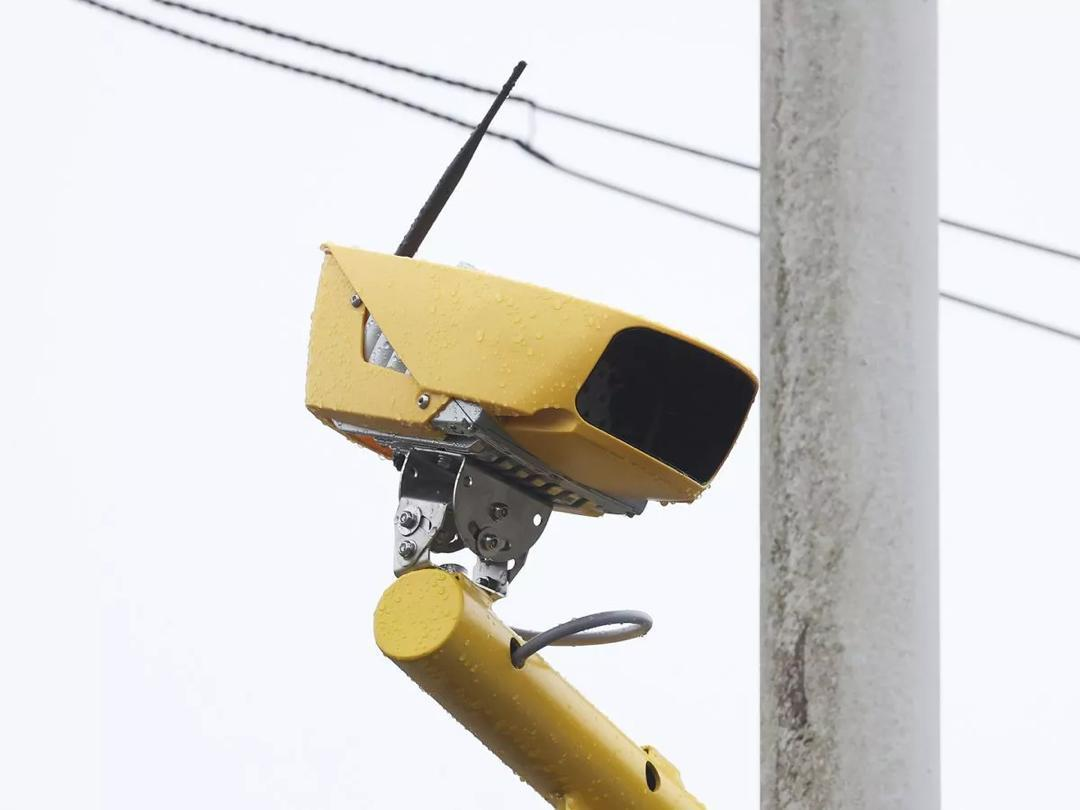Speed-Camera: (293, 55, 762, 560)
